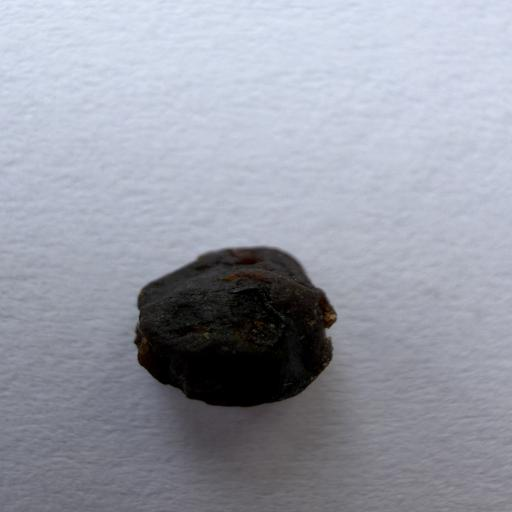Black_pepper: (96, 224, 396, 409)
